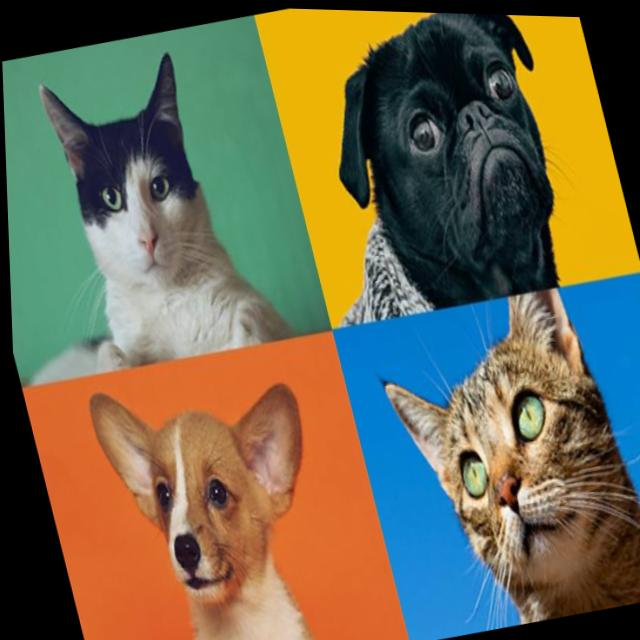Cat: (0, 14, 328, 388), (327, 265, 640, 640)
Dog: (258, 6, 640, 330), (16, 323, 403, 640)
